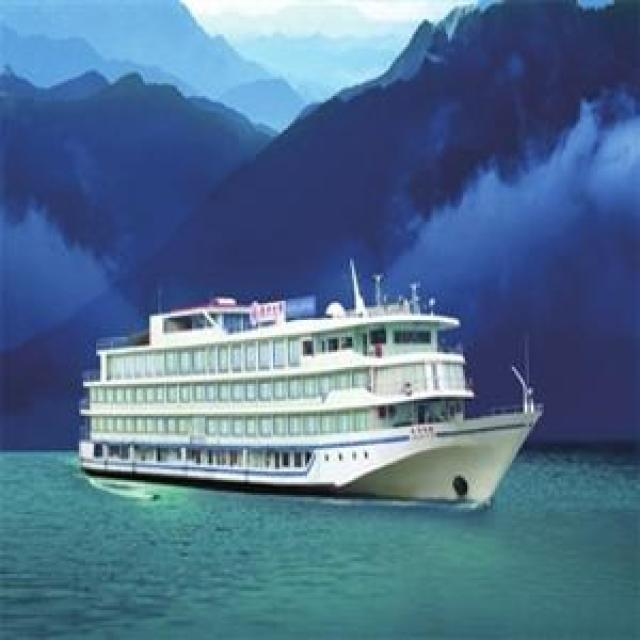passenger ship: (74, 274, 556, 514)
